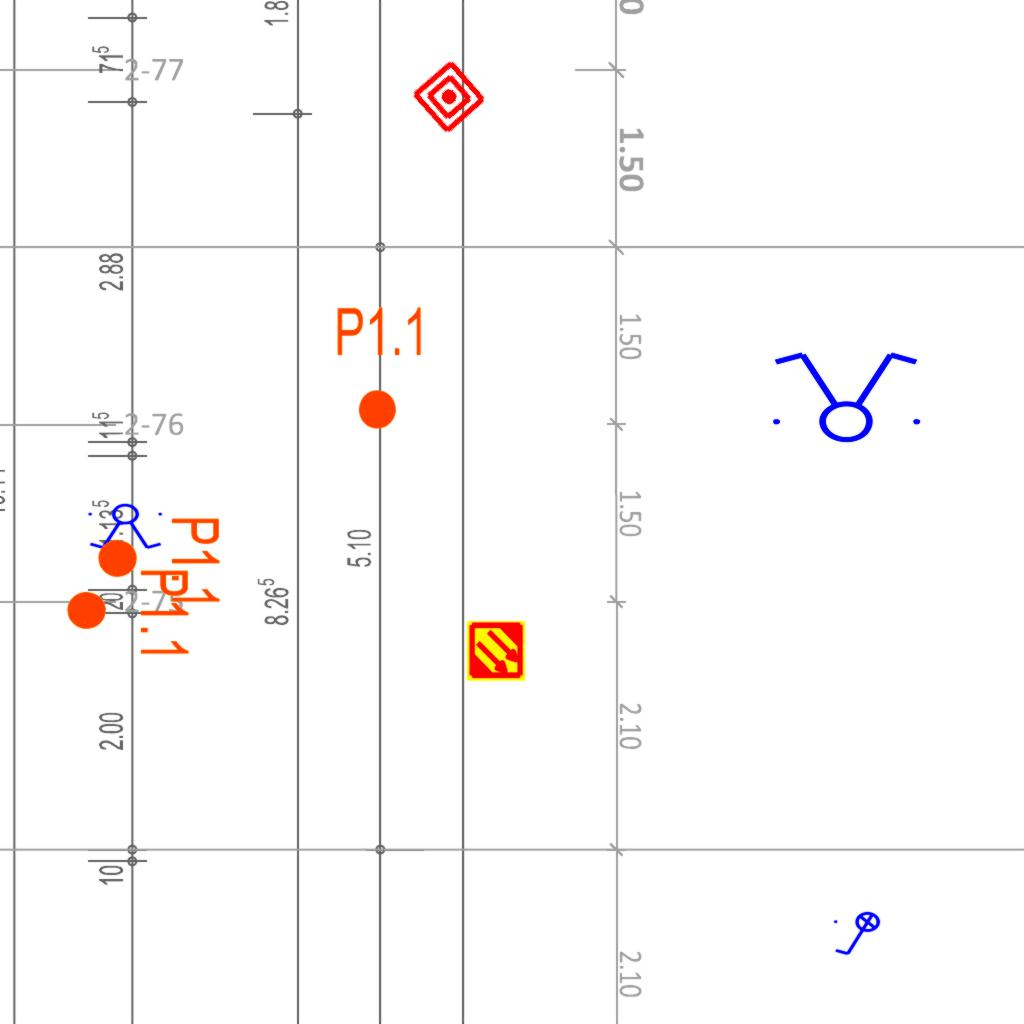ASR_Ansaugrauchmelder: (465, 620, 527, 682)
Ausschalter_beleuchtet: (831, 911, 887, 959)
Downlight_LED_Einbauleuchten_Flur: (64, 567, 192, 660), (334, 304, 427, 432), (95, 515, 223, 608)
NAM-Nichtautomatischer_Melder: (409, 57, 489, 137)
Serienschalter: (761, 348, 929, 444), (84, 503, 168, 551)
